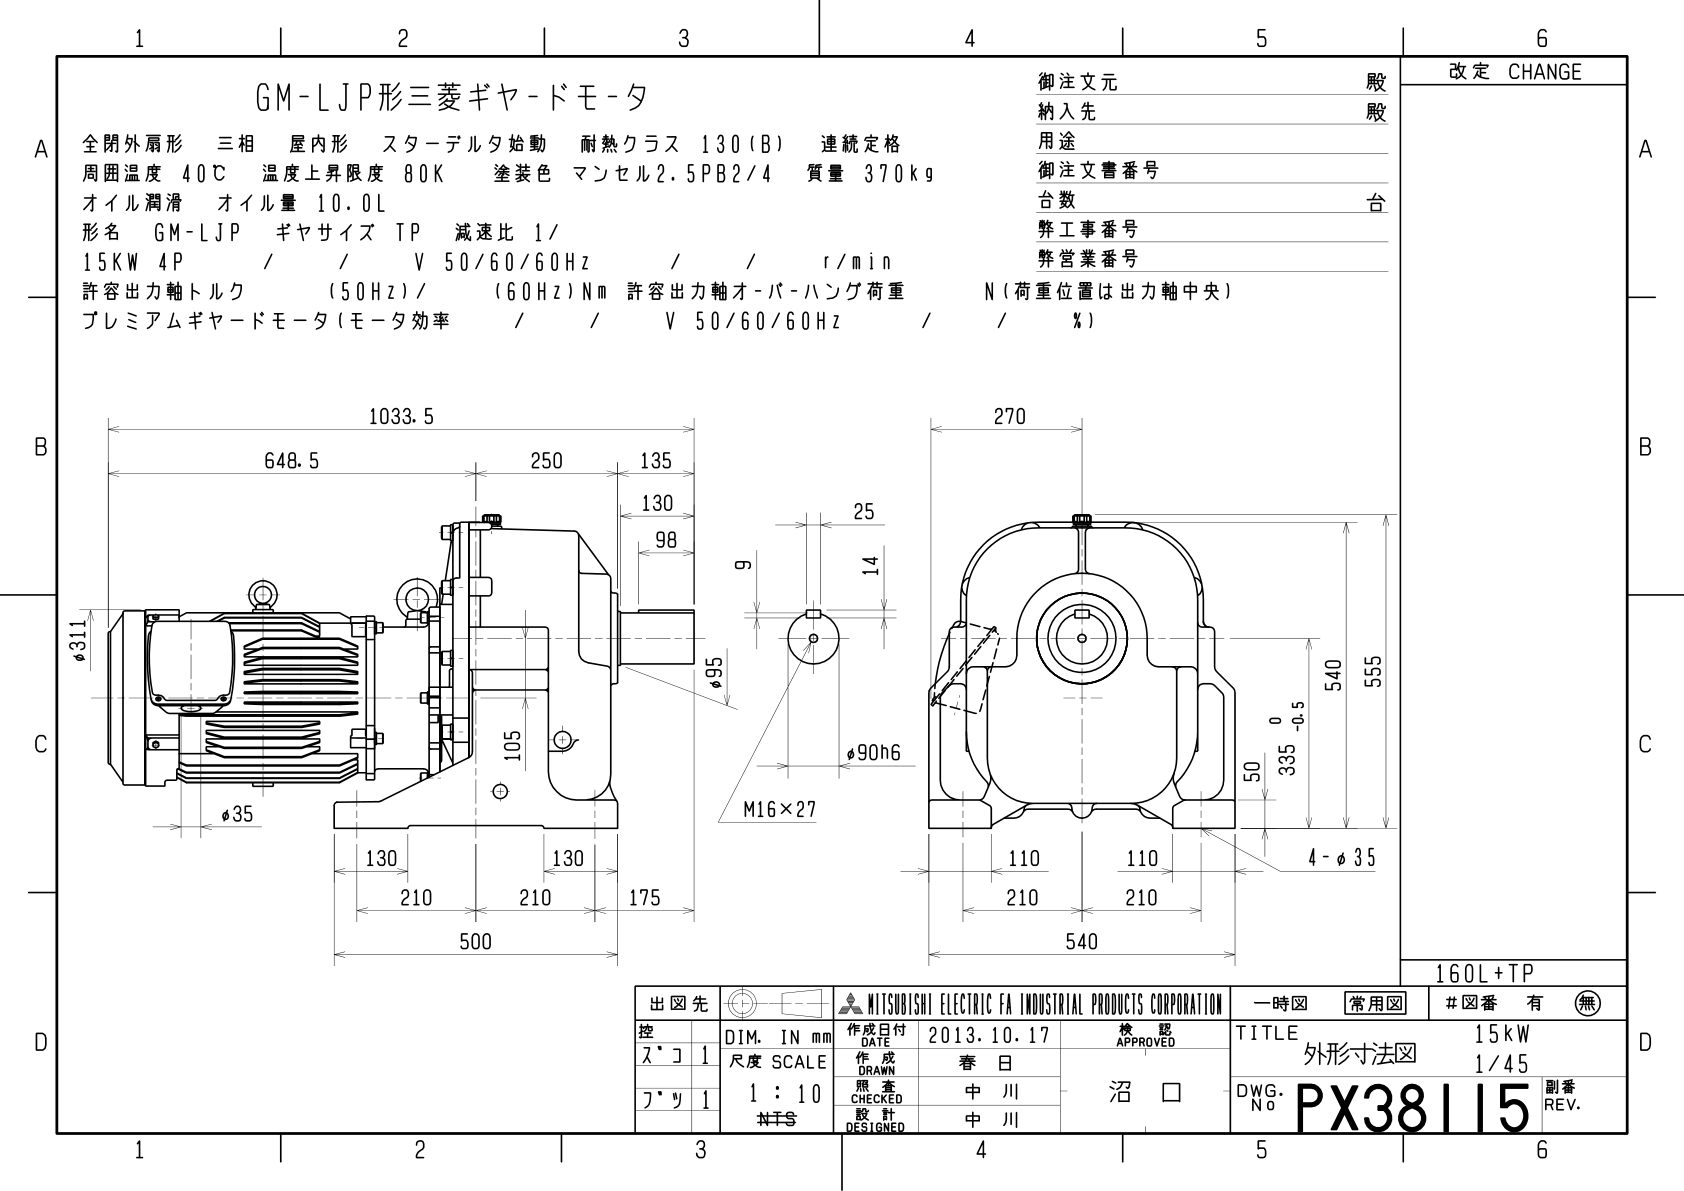GM_LJP_屋内_三相_脚: (63, 380, 1393, 971)
